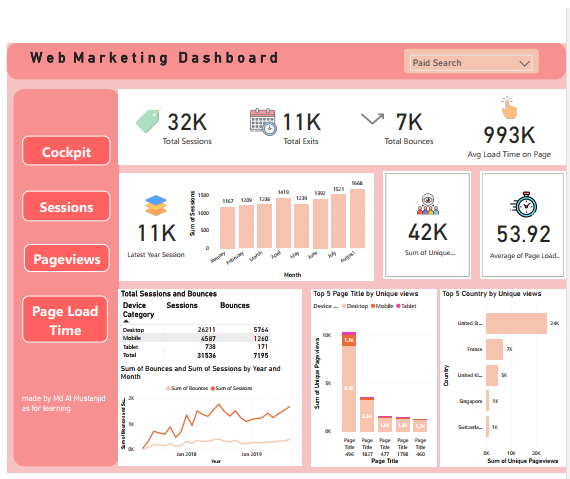

The page's visual inventory and layout, read from the dashboard file:
{"tool":"powerbi","page":{"name":"Web Marketing KPI","canvas":[1300,1000],"ordinal":0},"visuals":[{"type":"textbox","box":[0,0,1300,84],"z":0},{"type":"textbox","box":[16,108,244,876],"z":1000},{"type":"actionButton","title":"Cockpit","box":[36,216,204,68],"z":2000},{"type":"actionButton","title":"Cockpit","box":[36,344,204,70],"z":3000},{"type":"actionButton","title":"Cockpit","box":[40,468,198,64],"z":4000},{"type":"actionButton","title":"Cockpit","box":[36,588,198,108],"z":5000},{"type":"cardVisual","fields":{"Data":["Sum(Web Marketing_Migrated Data.Sessions)","Sum(Web Marketing_Migrated Data.Exits)","Sum(Web Marketing_Migrated Data.Bounces)","Sum(Web Marketing_Migrated Data.Page Load Time)"]},"box":[260,108,1040,176],"z":6000},{"type":"cardVisual","fields":{"Data":["Sum(Web Marketing_Migrated Data.Sessions)"]},"box":[260,302,174,250],"z":7000},{"type":"cardVisual","fields":{"Data":["Avg(Web Marketing_Migrated Data.Page Load Time)"]},"box":[1100,298,200,250],"z":8000},{"type":"cardVisual","fields":{"Data":["Sum(Web Marketing_Migrated Data.Unique Pageviews)"]},"box":[876,298,204,250],"z":9000},{"type":"clusteredColumnChart","fields":{"Category":["Web Marketing_Migrated Data.Date.Variation.Date Hierarchy.Month"],"Y":["Sum(Web Marketing_Migrated Data.Sessions)"]},"box":[418,302,436,250],"z":10000},{"type":"pivotTable","title":"Total Sessions and Bounces","fields":{"Rows":["Web Marketing_Migrated Data.Device Category"],"Values":["Sum(Web Marketing_Migrated Data.Sessions)","Sum(Web Marketing_Migrated Data.Bounces)"]},"box":[260,572,426,174],"z":11000},{"type":"lineChart","fields":{"Category":["Web Marketing_Migrated Data.Date.Variation.Date Hierarchy.Year","Web Marketing_Migrated Data.Date.Variation.Date Hierarchy.Month"],"Y":["Sum(Web Marketing_Migrated Data.Bounces)","Sum(Web Marketing_Migrated Data.Sessions)"]},"box":[260,746,426,238],"z":12000},{"type":"columnChart","title":"Top 5 Page Title by Unique views","fields":{"Category":["Web Marketing_Migrated Data.Page Title"],"Y":["Sum(Web Marketing_Migrated Data.Unique Pageviews)"],"Series":["Web Marketing_Migrated Data.Device Category"]},"box":[708,572,292,412],"z":13000},{"type":"clusteredBarChart","title":"Top 5 Country by Unique views","fields":{"Y":["Sum(Web Marketing_Migrated Data.Unique Pageviews)"],"Category":["Web Marketing_Migrated Data.Country"]},"box":[1008,572,292,412],"z":14000},{"type":"slicer","fields":{"Values":["Web Marketing_Migrated Data.Channel Grouping"]},"box":[924,14,312,56],"z":14001},{"type":"textbox","box":[30,810,210,100],"z":14002}]}

Visuals, with their boxes in screenshot pixels (x1, y1, x2, y2):
textbox: bbox=(4, 42, 567, 78)
textbox: bbox=(11, 88, 117, 467)
"Cockpit" actionButton: bbox=(20, 135, 108, 164)
"Cockpit" actionButton: bbox=(20, 190, 108, 221)
"Cockpit" actionButton: bbox=(22, 244, 107, 272)
"Cockpit" actionButton: bbox=(20, 296, 106, 343)
cardVisual - Sum(Web Marketing_Migrated Data.Sessions) x Sum(Web Marketing_Migrated Data.Exits): bbox=(117, 88, 567, 164)
cardVisual - Sum(Web Marketing_Migrated Data.Sessions): bbox=(117, 172, 192, 280)
cardVisual - Avg(Web Marketing_Migrated Data.Page Load Time): bbox=(480, 170, 567, 279)
cardVisual - Sum(Web Marketing_Migrated Data.Unique Pageviews): bbox=(383, 170, 471, 279)
clusteredColumnChart - Web Marketing_Migrated Data.Date.Variation.Date Hierarchy.Month x Sum(Web Marketing_Migrated Data.Sessions): bbox=(185, 172, 374, 280)
"Total Sessions and Bounces" pivotTable: bbox=(117, 289, 301, 364)
lineChart - Web Marketing_Migrated Data.Date.Variation.Date Hierarchy.Year x Web Marketing_Migrated Data.Date.Variation.Date Hierarchy.Month: bbox=(117, 364, 301, 467)
"Top 5 Page Title by Unique views" columnChart: bbox=(311, 289, 437, 467)
"Top 5 Country by Unique views" clusteredBarChart: bbox=(440, 289, 567, 467)
slicer - Web Marketing_Migrated Data.Channel Grouping: bbox=(404, 48, 539, 72)
textbox: bbox=(17, 392, 108, 435)
